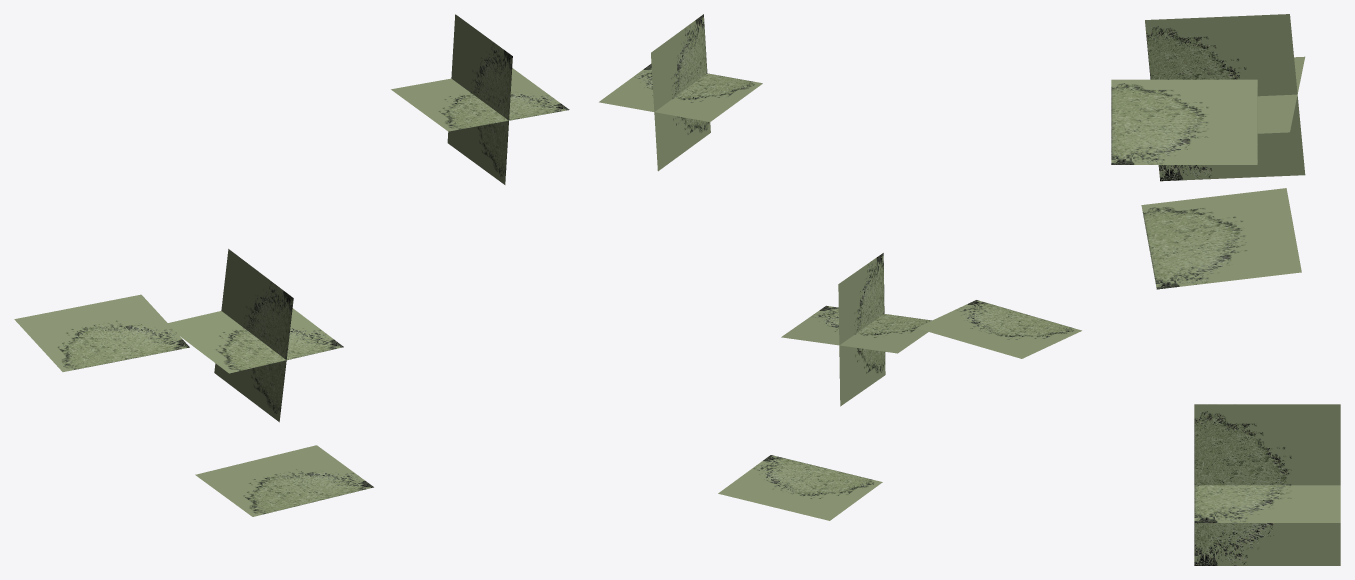
3 views of the same model, side by side, from view 1: azimuth 30°, elevation 25°; view 2: azimuth 150°, elevation 25°; view 3: azimuth 270°, elevation 25° (orthographic). The views are drawn at different scales.
Parts seen in each view (by area): view 1: sageBrush.jpg__; view 2: sageBrush.jpg__; view 3: sageBrush.jpg__.
Boxes of the visible parts, box(x1,y1,x2,y2) form: sageBrush.jpg__: box(14, 14, 569, 516); sageBrush.jpg__: box(599, 14, 1081, 520); sageBrush.jpg__: box(1111, 14, 1340, 565).
Bounding box in the file's own units: 15.62 × 15.08 × 5.02.
1 material, 1 textured.
